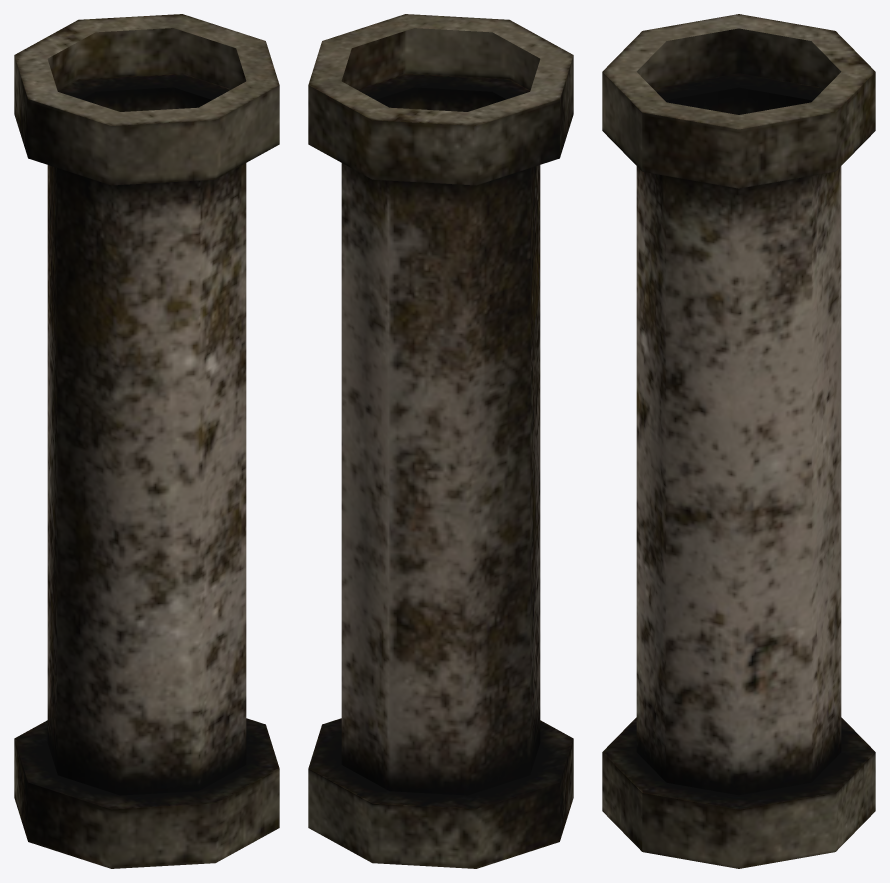
Rendered from ExtPipe_06.FBX.
The picture shows the model from 3 angles, left to right: view 1: azimuth 30°, elevation 25°; view 2: azimuth 150°, elevation 25°; view 3: azimuth 270°, elevation 25°; orthographic projection.
Parts seen in each view (by area): view 1: ExtPipe_06; view 2: ExtPipe_06; view 3: ExtPipe_06.
Part boxes in pixels (box(x1,y1,x2,y2)): ExtPipe_06: box(14, 14, 279, 868); ExtPipe_06: box(308, 14, 573, 868); ExtPipe_06: box(602, 14, 875, 868).
Bounding box in the file's own units: 16 × 47.76 × 16.
